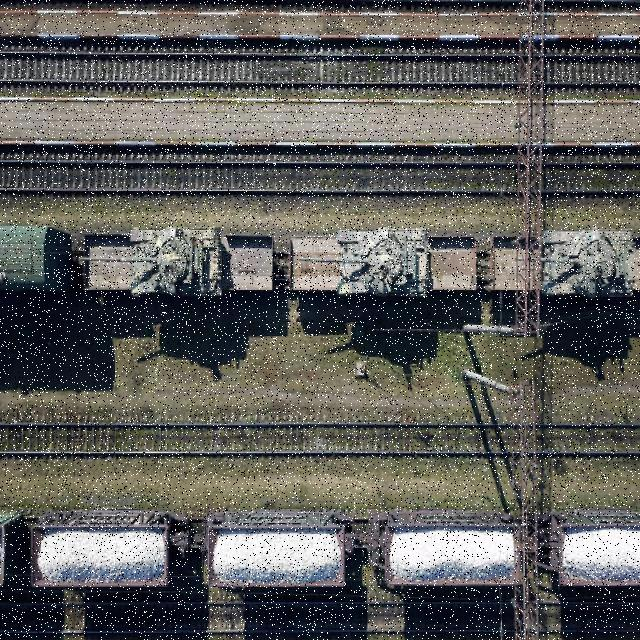MIL_MBT: (74, 226, 224, 300), (297, 226, 433, 299)
